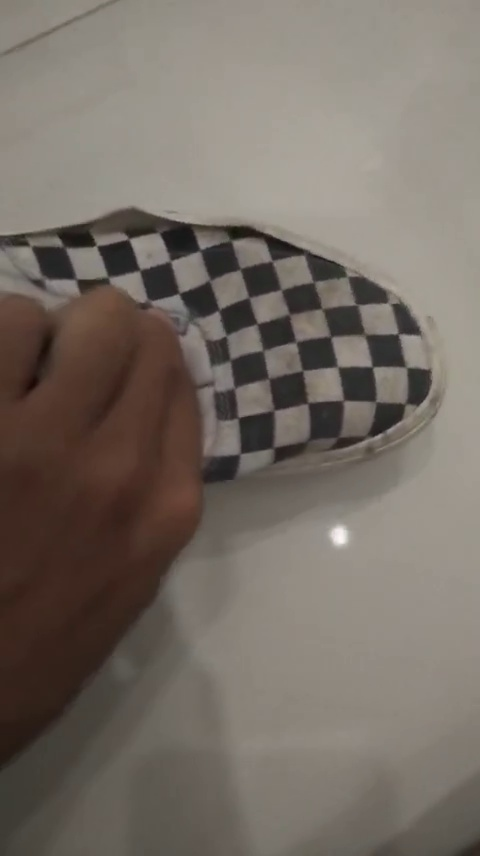bonding: (31, 203, 275, 242)
